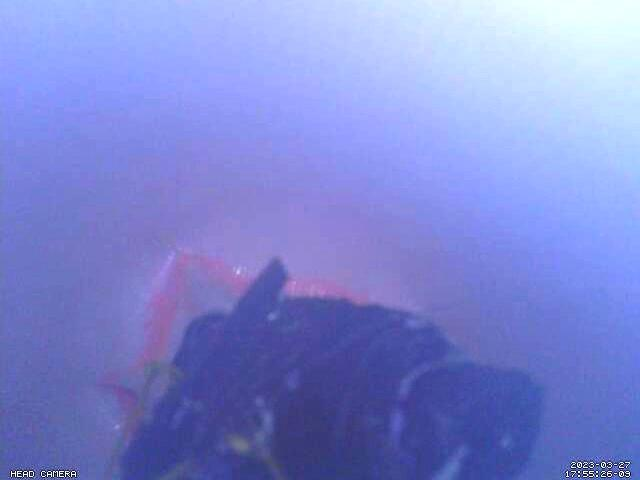head: (97, 250, 365, 403)
